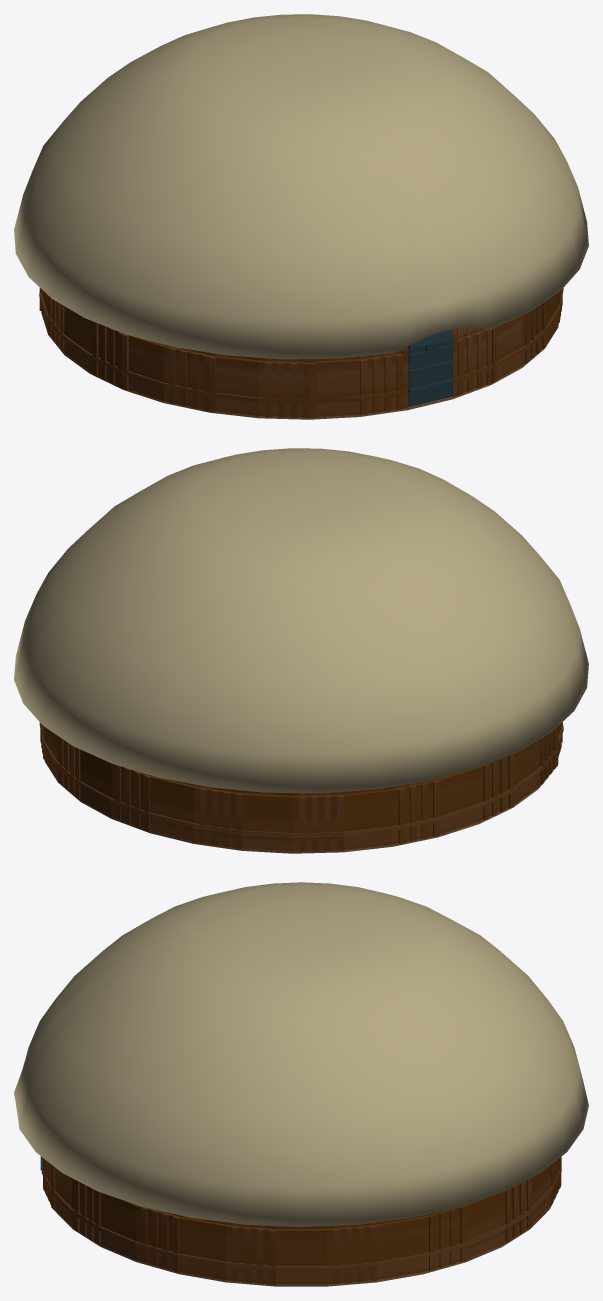
File: honai_house.glb
3 views of the same model, one above another, from view 1: azimuth 30°, elevation 25°; view 2: azimuth 150°, elevation 25°; view 3: azimuth 270°, elevation 25° (orthographic).
Visible parts, largest first — view 1: RoofHonai, WallHonai, DoorHonai, 1stFloorHonai; view 2: RoofHonai, WallHonai, 1stFloorHonai; view 3: RoofHonai, WallHonai, 1stFloorHonai.
Boxes of the visible parts, left/top/right/bottom form: RoofHonai: left=14, top=14, right=588, bottom=359; WallHonai: left=39, top=287, right=563, bottom=418; DoorHonai: left=408, top=329, right=453, bottom=406; 1stFloorHonai: left=41, top=311, right=558, bottom=419; RoofHonai: left=14, top=448, right=588, bottom=793; WallHonai: left=39, top=722, right=563, bottom=851; 1stFloorHonai: left=44, top=745, right=561, bottom=853; RoofHonai: left=14, top=882, right=588, bottom=1227; WallHonai: left=41, top=1157, right=561, bottom=1284; 1stFloorHonai: left=44, top=1188, right=559, bottom=1286.
Bounding box in the file's own units: 2215 × 1073 × 2215.
5 materials, 4 textured.
